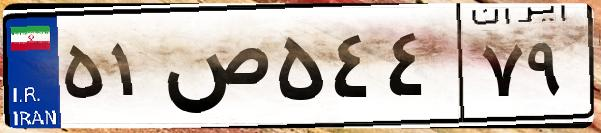1: (110, 28, 158, 98)
4: (385, 28, 445, 110), (330, 28, 385, 110)
5: (270, 28, 330, 110), (57, 26, 110, 100)
7: (475, 38, 525, 113)
9: (525, 38, 570, 115)
ص: (158, 20, 270, 120)
